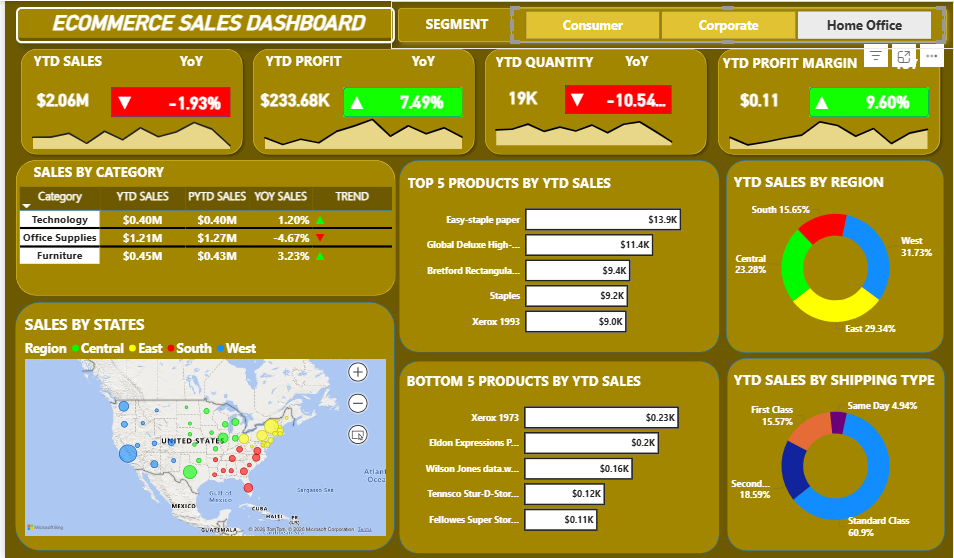

Layout of this report page (visuals, bound fields, positions):
{"tool":"powerbi","page":{"name":"Page 1","canvas":[1700,1000],"ordinal":0},"visuals":[{"type":"shape","box":[698.9,0,1001.8,86],"z":0,"group":"g11"},{"type":"shape","box":[19,77.9,415,207],"z":0,"group":"g1"},{"type":"shape","box":[435,77.9,415,207],"z":0,"group":"g2"},{"type":"shape","box":[850.9,77.9,415,207],"z":0,"group":"g3"},{"type":"shape","box":[1268.8,77.9,416,207],"z":0,"group":"g4"},{"type":"shape","box":[1292.1,284.9,390.7,345.9],"z":0,"group":"g9"},{"type":"shape","box":[1293.9,639.8,390.7,345.9],"z":0,"group":"g10"},{"type":"textbox","title":"ECOMMERCE SALES DASHBOARD","box":[19.7,10.8,679.2,64.5],"z":1000},{"type":"group","id":"g1","title":"Group 1","box":[19,77.9,416,207],"z":1000},{"type":"textbox","box":[45.3,86.6,167.1,45.2],"z":1000,"group":"g1"},{"type":"textbox","box":[461.3,86.6,167.1,45.2],"z":1000,"group":"g2"},{"type":"textbox","box":[874.1,89.5,202.8,45.3],"z":1000,"group":"g3"},{"type":"textbox","box":[1280.9,91.1,288,50.5],"z":1000,"group":"g4"},{"type":"group","id":"g2","title":"Group 1","box":[435,77.9,416,207],"z":2000},{"type":"textbox","box":[1093.9,86.3,75.4,55.3],"z":2000,"group":"g3"},{"type":"textbox","box":[291.3,86.6,84.5,57.4],"z":2000,"group":"g1"},{"type":"textbox","box":[707.3,86.6,84.5,57.4],"z":2000,"group":"g2"},{"type":"textbox","box":[1572.7,92.8,84.7,57.4],"z":2000,"group":"g4"},{"type":"group","id":"g3","title":"Group 1","box":[850.9,77.9,416,207],"z":3000},{"type":"areaChart","fields":{"Y":["Sum(ecommerce_data.order_quantity)"],"Category":["date.month"]},"box":[862.6,193.5,346.9,70.4],"z":3000,"group":"g3"},{"type":"areaChart","fields":{"Y":["Sum(ecommerce_data.sales_per_order)"],"Category":["date.month"]},"box":[32.1,197.9,388.7,73.1],"z":3000,"group":"g1"},{"type":"areaChart","fields":{"Y":["Sum(ecommerce_data.profit_per_order)"],"Category":["date.month"]},"box":[448.1,197.9,388.7,73.1],"z":3000,"group":"g2"},{"type":"areaChart","fields":{"Y":["ecommerce_data.PROFIT MARGIN"],"Category":["date.month"]},"box":[1282,197.9,389.6,73.1],"z":3000,"group":"g4"},{"type":"group","id":"g4","title":"Group 1","box":[1268.8,77.9,416,207],"z":4000},{"type":"card","fields":{"Values":["ecommerce_data.YTD QUANTITY"]},"box":[862.6,141.6,127.4,62],"z":4000,"group":"g3"},{"type":"card","fields":{"Values":["ecommerce_data.YTD SALES"]},"box":[32.1,144,142.7,64.4],"z":4000,"group":"g1"},{"type":"card","fields":{"Values":["ecommerce_data.YTD PROFIT"]},"box":[448.1,144,142.7,64.4],"z":4000,"group":"g2"},{"type":"card","fields":{"Values":["ecommerce_data.YTM PROFIT MARGIN"]},"box":[1282,144,143.1,64.4],"z":4000,"group":"g4"},{"type":"shape","box":[1003.4,151.6,191.1,52],"z":5000,"group":"g3"},{"type":"shape","box":[189.9,154.4,214.1,53.9],"z":5000,"group":"g1"},{"type":"shape","box":[605.9,154.4,214.1,53.9],"z":5000,"group":"g2"},{"type":"shape","box":[1440.1,154.5,214.6,53.9],"z":5000,"group":"g4"},{"type":"group","id":"g5","title":"Group 3","box":[19,284.9,680,243.1],"z":5000},{"type":"shape","box":[19,284.9,680,243.1],"z":5000,"group":"g5"},{"type":"card","fields":{"Values":["ecommerce_data.YOY QUANTITY"]},"box":[1069.2,153.2,120.7,45.3],"z":6000,"group":"g3"},{"type":"card","fields":{"Values":["ecommerce_data.YOY PROFIT"]},"box":[679.5,156,135.2,47],"z":6000,"group":"g2"},{"type":"card","fields":{"Values":["ecommerce_data.YOY PROFIT MARGIN"]},"box":[1513.9,156,135.5,47],"z":6000,"group":"g4"},{"type":"card","fields":{"Values":["ecommerce_data.YOY SALES"]},"box":[278.1,159.7,120.2,41.7],"z":6000,"group":"g1"},{"type":"pivotTable","fields":{"Rows":["ecommerce_data.category_name"],"Values":["ecommerce_data.YTD SALES","ecommerce_data.PYTD SALES","ecommerce_data.YOY SALES","ecommerce_data.SALES ICON"]},"box":[20.9,328.6,678.1,172.8],"z":6000,"group":"g5"},{"type":"shape","box":[18.1,540.2,680.7,445.8],"z":6000,"group":"g6"},{"type":"map","title":"SALES BY STATES","fields":{"Y":["us_state_long_lat_codes.latitude"],"X":["us_state_long_lat_codes.longitude"],"Size":["ecommerce_data.YTD SALES"],"Series":["ecommerce_data.customer_region"]},"box":[30.1,562.3,656.6,401.6],"z":6001,"group":"g6"},{"type":"shape","box":[706.8,285.1,574.3,345],"z":6002,"group":"g7"},{"type":"shape","box":[706.8,644.6,574.3,345.4],"z":6003,"group":"g8"},{"type":"clusteredBarChart","title":"TOP 5 PRODUCTS BY YTD SALES","fields":{"Category":["ecommerce_data.product_name"],"Y":["ecommerce_data.YTD SALES"]},"box":[718.3,307.8,551,310.1],"z":6004,"group":"g7"},{"type":"group","id":"g6","title":"Group 4","box":[18.1,540.2,680.7,445.8],"z":6005},{"type":"clusteredBarChart","title":"BOTTOM 5 PRODUCTS BY YTD SALES","fields":{"Category":["ecommerce_data.product_name"],"Y":["ecommerce_data.YTD SALES"]},"box":[716.5,661.7,552,310.8],"z":6006,"group":"g8"},{"type":"group","id":"g7","title":"Group 5","box":[706.8,285.1,574.3,345],"z":6007},{"type":"group","id":"g8","title":"Group 6","box":[706.8,644.6,574.3,345.4],"z":6008},{"type":"donutChart","title":"YTD SALES BY REGION","fields":{"Category":["ecommerce_data.customer_region"],"Y":["ecommerce_data.YTD SALES"]},"box":[1301.5,307.1,374.7,310.8],"z":6011,"group":"g9"},{"type":"donutChart","title":"YTD SALES BY SHIPPING TYPE","fields":{"Y":["ecommerce_data.YTD SALES"],"Category":["ecommerce_data.shipping_type"]},"box":[1301.5,661.7,374.7,310.8],"z":6012,"group":"g10"},{"type":"slicer","fields":{"Values":["ecommerce_data.customer_segment"]},"box":[913.2,10.8,772.2,64.6],"z":6013,"group":"g11"},{"type":"textbox","box":[755.9,19.7,142.3,44.9],"z":6014,"group":"g11"},{"type":"group","id":"g9","title":"Group 7","box":[1292.1,284.9,390.7,345.9],"z":6015},{"type":"group","id":"g10","title":"Group 8","box":[1293.9,639.8,390.7,345.9],"z":6016},{"type":"group","id":"g11","title":"Group 9","box":[698.9,0,1001.8,86],"z":6017},{"type":"card","fields":{"Values":["ecommerce_data.QUANTITY ICON"]},"box":[990,158.3,68.7,38.5],"z":7000,"group":"g3"},{"type":"card","fields":{"Values":["ecommerce_data.SALES ICON"]},"box":[174.9,161.4,77,40],"z":7000,"group":"g1"},{"type":"card","fields":{"Values":["ecommerce_data.PROFIT ICON"]},"box":[590.9,161.4,77,40],"z":7000,"group":"g2"},{"type":"card","fields":{"Values":["ecommerce_data.PROFIT MARIGN ICON"]},"box":[1425,161.4,77.2,40],"z":7000,"group":"g4"},{"type":"textbox","box":[45.6,284.9,269.7,43.7],"z":7000,"group":"g5"}]}

Visuals, with their boxes in screenshot pixels (x1, y1, x2, y2), scaled from the page's 1700x1000 canvas onto the 954x558 screenshot:
shape: Rect(392, 0, 953, 48)
shape: Rect(11, 43, 244, 159)
shape: Rect(244, 43, 477, 159)
shape: Rect(478, 43, 710, 159)
shape: Rect(712, 43, 945, 159)
shape: Rect(725, 159, 944, 352)
shape: Rect(726, 357, 945, 550)
"ECOMMERCE SALES DASHBOARD" textbox: Rect(11, 6, 392, 42)
"Group 1" group: Rect(11, 43, 244, 159)
textbox: Rect(25, 48, 119, 74)
textbox: Rect(259, 48, 353, 74)
textbox: Rect(491, 50, 604, 75)
textbox: Rect(719, 51, 880, 79)
"Group 1" group: Rect(244, 43, 478, 159)
textbox: Rect(614, 48, 656, 79)
textbox: Rect(163, 48, 211, 80)
textbox: Rect(397, 48, 444, 80)
textbox: Rect(883, 52, 930, 84)
"Group 1" group: Rect(478, 43, 711, 159)
areaChart - Sum(ecommerce_data.order_quantity) x date.month: Rect(484, 108, 679, 147)
areaChart - Sum(ecommerce_data.sales_per_order) x date.month: Rect(18, 110, 236, 151)
areaChart - Sum(ecommerce_data.profit_per_order) x date.month: Rect(251, 110, 470, 151)
areaChart - ecommerce_data.PROFIT MARGIN x date.month: Rect(719, 110, 938, 151)
"Group 1" group: Rect(712, 43, 945, 159)
card - ecommerce_data.YTD QUANTITY: Rect(484, 79, 556, 114)
card - ecommerce_data.YTD SALES: Rect(18, 80, 98, 116)
card - ecommerce_data.YTD PROFIT: Rect(251, 80, 332, 116)
card - ecommerce_data.YTM PROFIT MARGIN: Rect(719, 80, 800, 116)
shape: Rect(563, 85, 670, 114)
shape: Rect(107, 86, 227, 116)
shape: Rect(340, 86, 460, 116)
shape: Rect(808, 86, 929, 116)
"Group 3" group: Rect(11, 159, 392, 295)
shape: Rect(11, 159, 392, 295)
card - ecommerce_data.YOY QUANTITY: Rect(600, 85, 668, 111)
card - ecommerce_data.YOY PROFIT: Rect(381, 87, 457, 113)
card - ecommerce_data.YOY PROFIT MARGIN: Rect(850, 87, 926, 113)
card - ecommerce_data.YOY SALES: Rect(156, 89, 224, 112)
pivotTable - ecommerce_data.category_name x ecommerce_data.YTD SALES: Rect(12, 183, 392, 280)
shape: Rect(10, 301, 392, 550)
"SALES BY STATES" map: Rect(17, 314, 385, 538)
shape: Rect(397, 159, 719, 352)
shape: Rect(397, 360, 719, 552)
"TOP 5 PRODUCTS BY YTD SALES" clusteredBarChart: Rect(403, 172, 712, 345)
"Group 4" group: Rect(10, 301, 392, 550)
"BOTTOM 5 PRODUCTS BY YTD SALES" clusteredBarChart: Rect(402, 369, 712, 543)
"Group 5" group: Rect(397, 159, 719, 352)
"Group 6" group: Rect(397, 360, 719, 552)
"YTD SALES BY REGION" donutChart: Rect(730, 171, 941, 345)
"YTD SALES BY SHIPPING TYPE" donutChart: Rect(730, 369, 941, 543)
slicer - ecommerce_data.customer_segment: Rect(512, 6, 946, 42)
textbox: Rect(424, 11, 504, 36)
"Group 7" group: Rect(725, 159, 944, 352)
"Group 8" group: Rect(726, 357, 945, 550)
"Group 9" group: Rect(392, 0, 953, 48)
card - ecommerce_data.QUANTITY ICON: Rect(556, 88, 594, 110)
card - ecommerce_data.SALES ICON: Rect(98, 90, 141, 112)
card - ecommerce_data.PROFIT ICON: Rect(332, 90, 375, 112)
card - ecommerce_data.PROFIT MARIGN ICON: Rect(800, 90, 843, 112)
textbox: Rect(26, 159, 177, 183)
